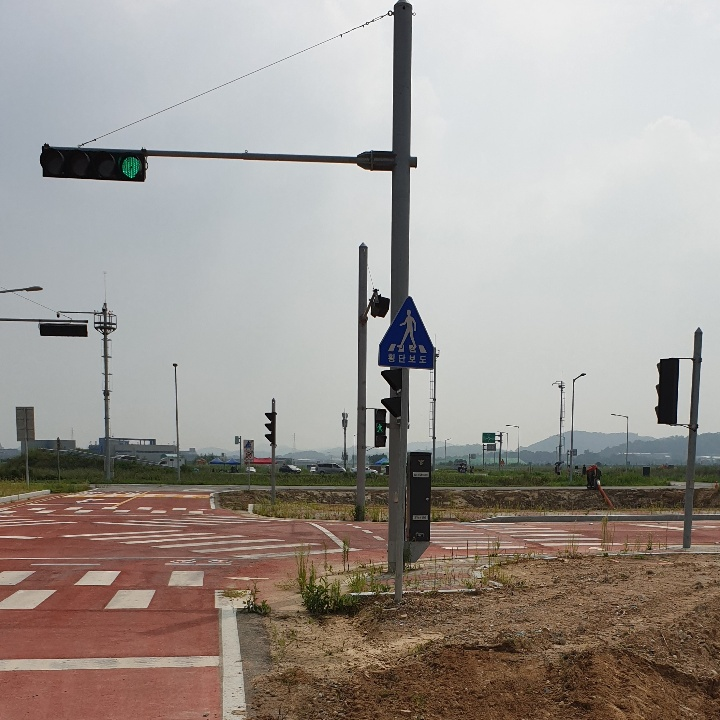cross: (392, 305, 426, 348)
